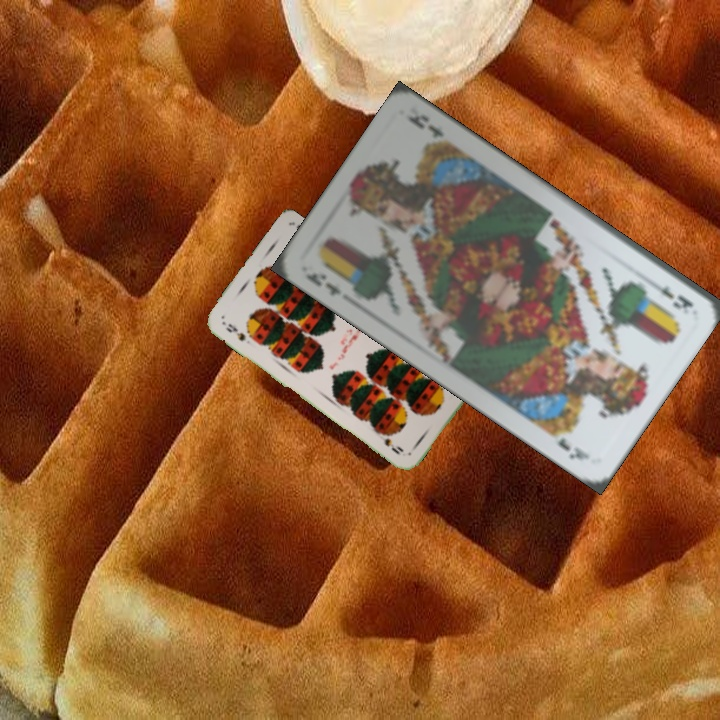EK: (643, 275, 697, 317), (301, 268, 345, 299)
S9: (221, 319, 248, 344)
